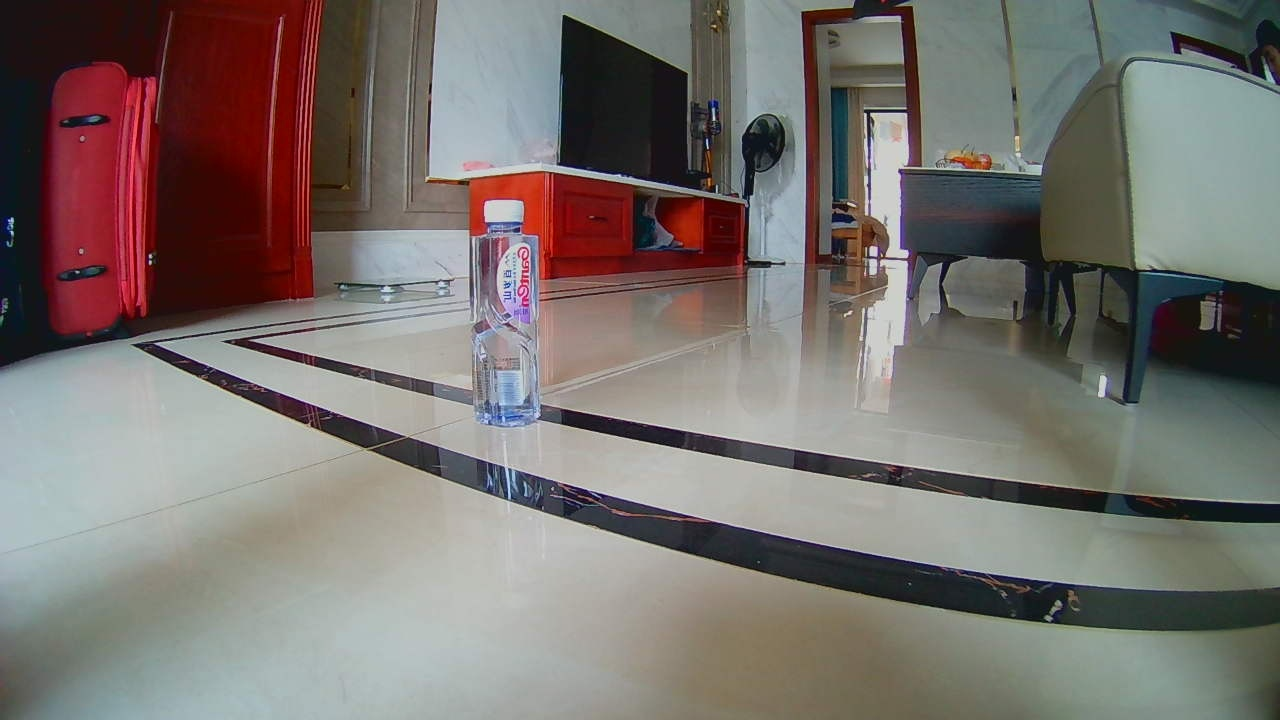water: (464, 201, 547, 427)
